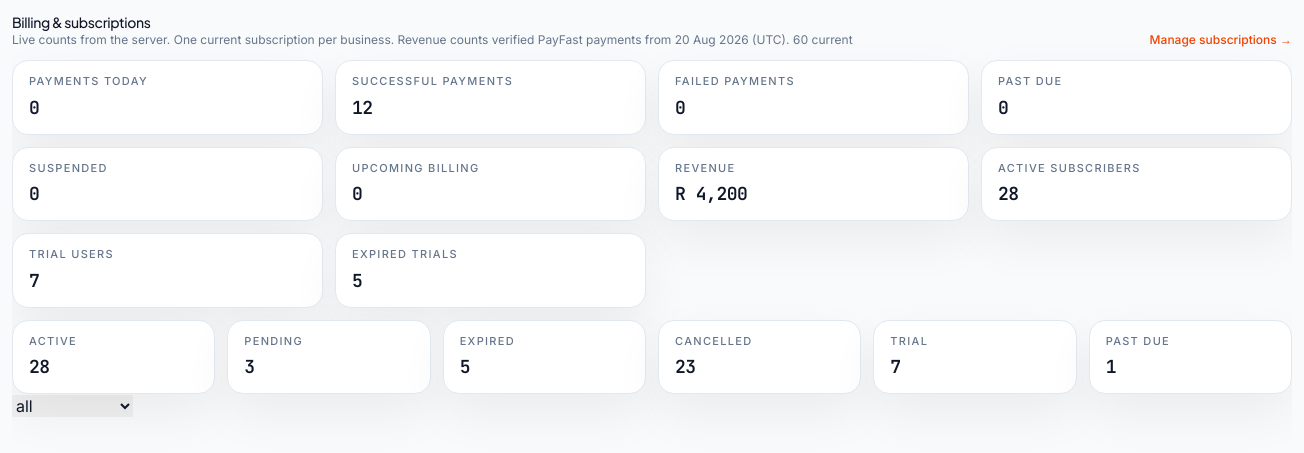
Test case: cards drive the shared filter state › clicking Expired Trials sets the filter to expired_trials and syncs the dropdown
Click the button "Expired Trials 5" at (405, 254), box x1=335 y1=233 x2=646 y2=308
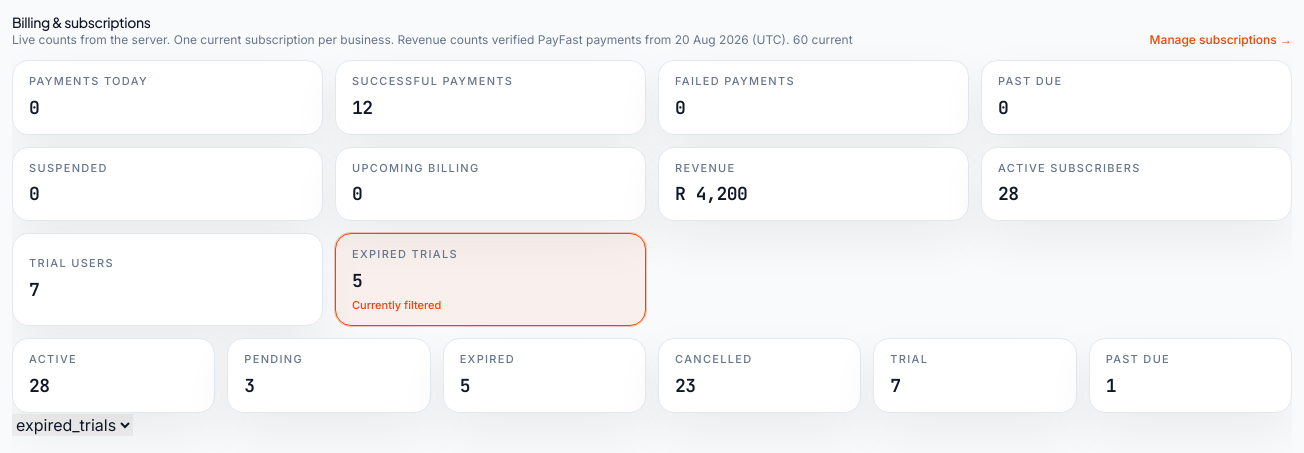
expect the dropdown with test id "status-dropdown" shows "expired_trials": met, box x1=12 y1=414 x2=133 y2=436
